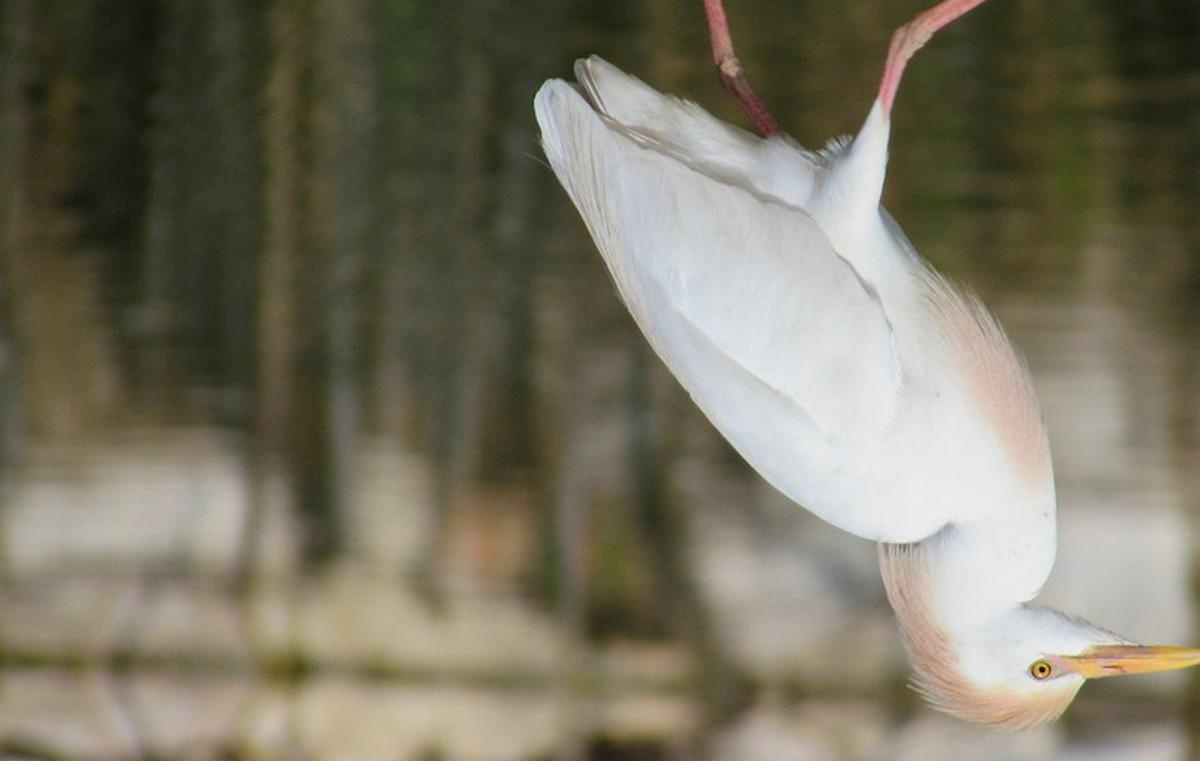egret: (533, 8, 1196, 741)
